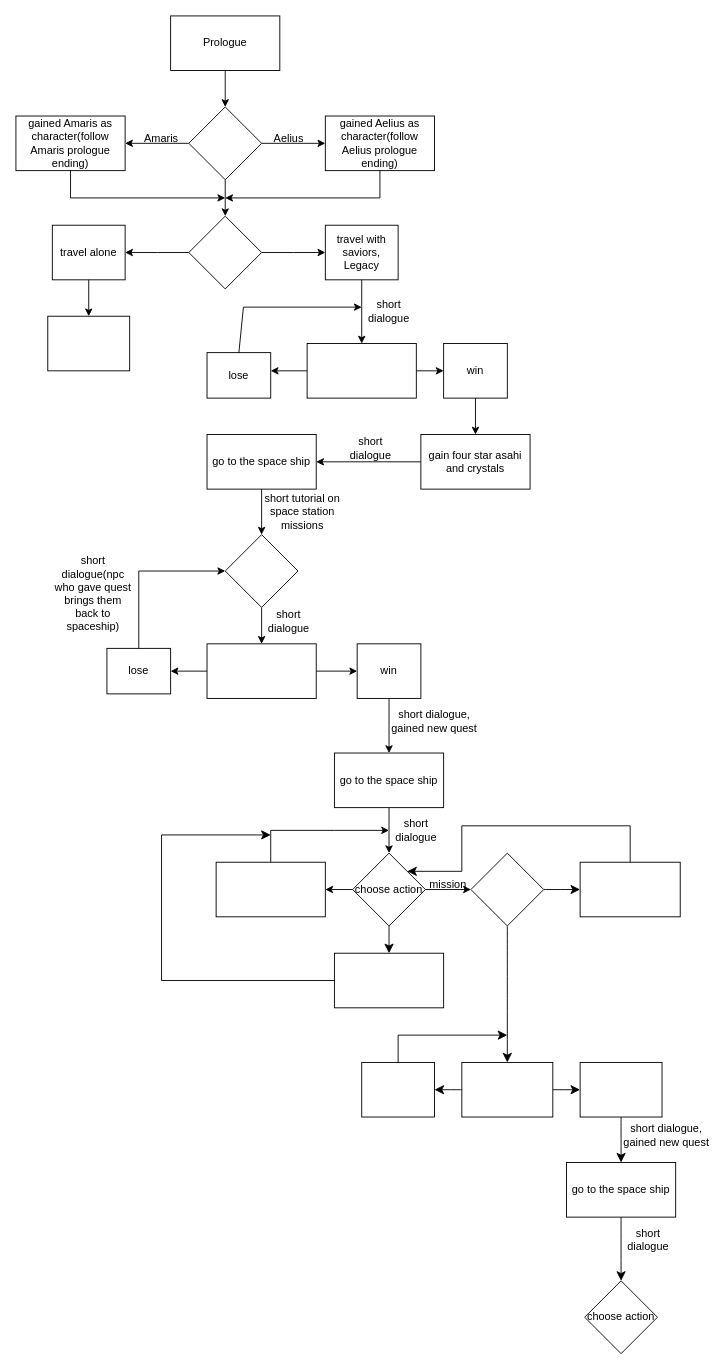
The diagram is 728 pixels wide and 1370 high, and some of its shapes have lost their labels. Each missing label, with the centre of its shape:
"choose mission" goes at point (261, 570).
"fight oblivion monsters(tutorial to battle)" goes at point (361, 370).
"pick a character" goes at point (225, 143).
"Pick Path" goes at point (225, 252).
"short epilogue(really bad ending)" goes at point (88, 343).
"star system(will be given short tutorial)" goes at point (270, 889).
"World Quest 1 - Monde" goes at point (261, 670).
